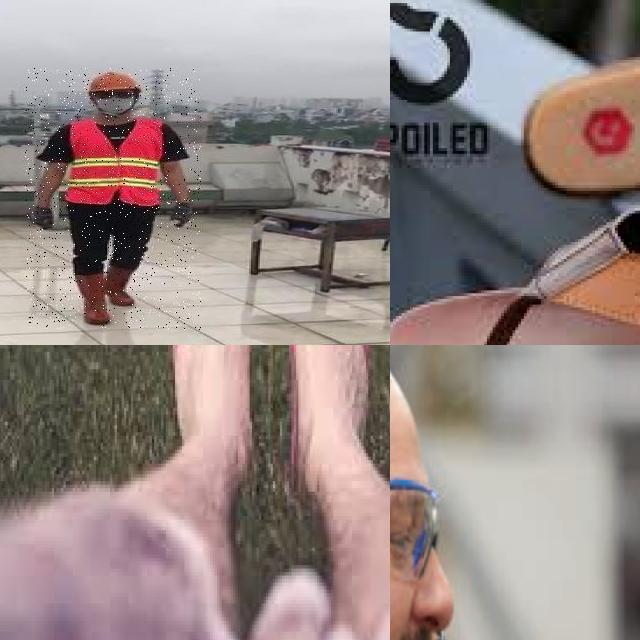Ear-protection: (390, 345, 459, 640)
Sandals: (390, 20, 640, 345), (140, 345, 390, 531)
boots: (75, 271, 111, 324), (110, 265, 136, 310)
head_helmet: (85, 71, 142, 92)
person: (26, 67, 200, 330)
vest: (66, 118, 162, 208)
